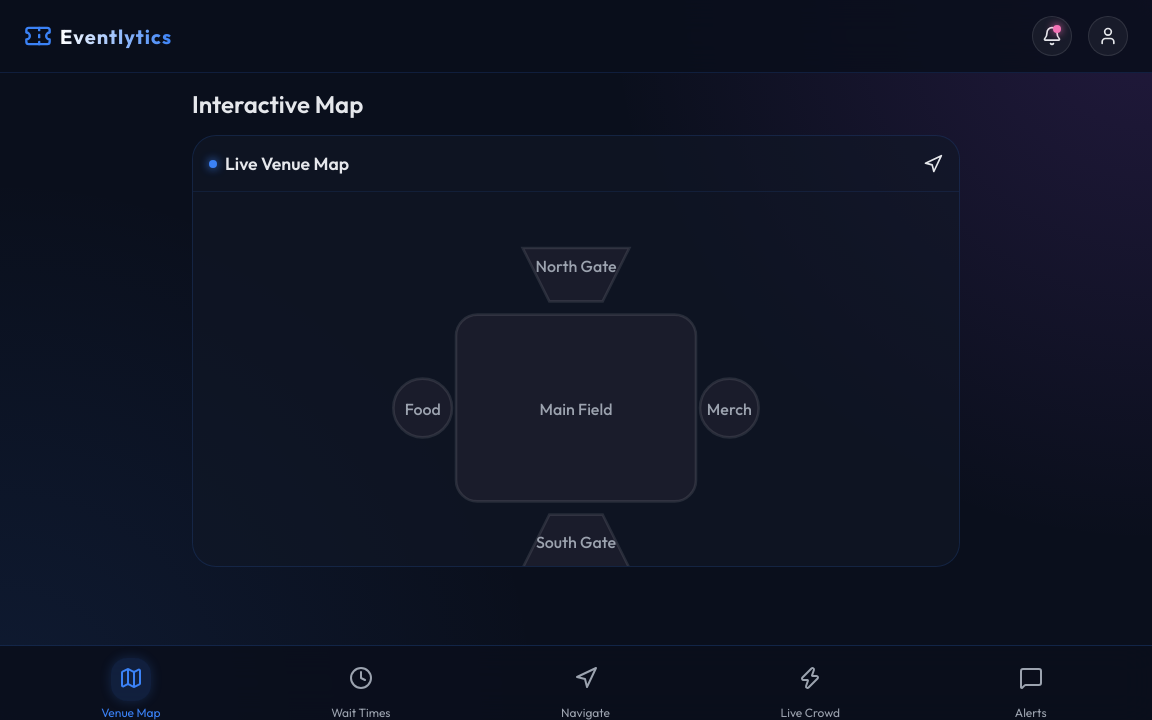
Test case: App — Integration & Edge Cases › Login toggles between Sign In and Sign Up mode
Click the button named "Login". click: (1108,36)
box: [1088,16,1128,56]
(page scrolled)
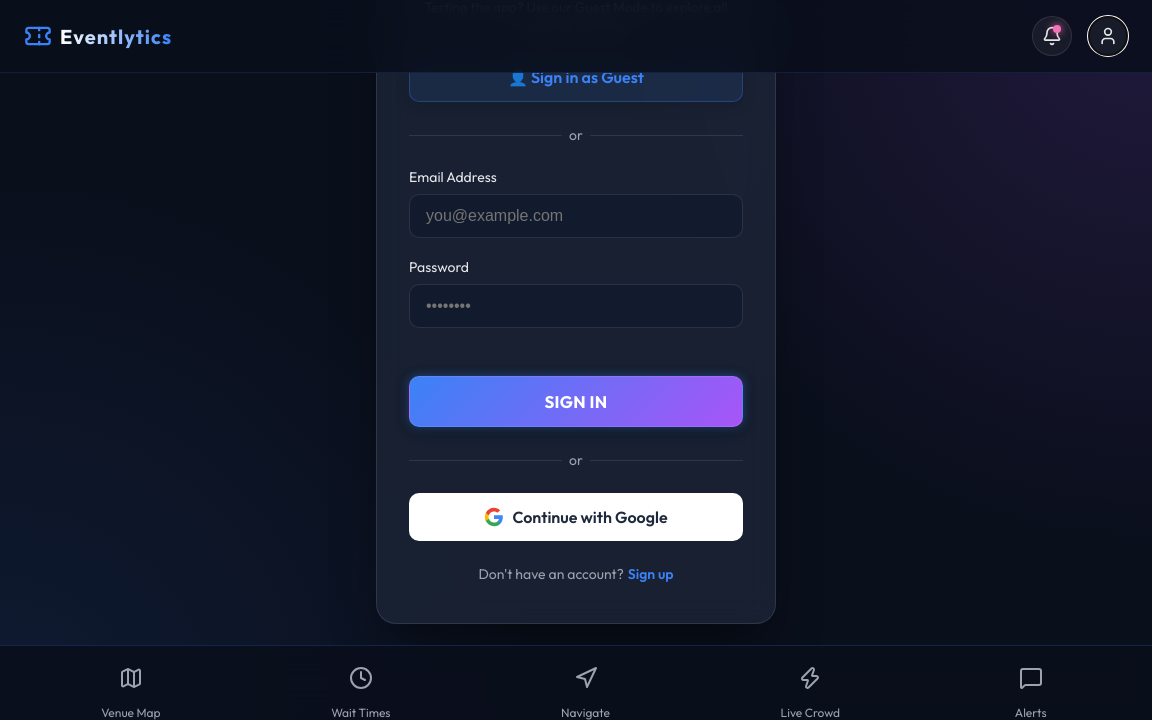
Click the button "Sign up". click: (651,574)
box: [628,565,674,583]
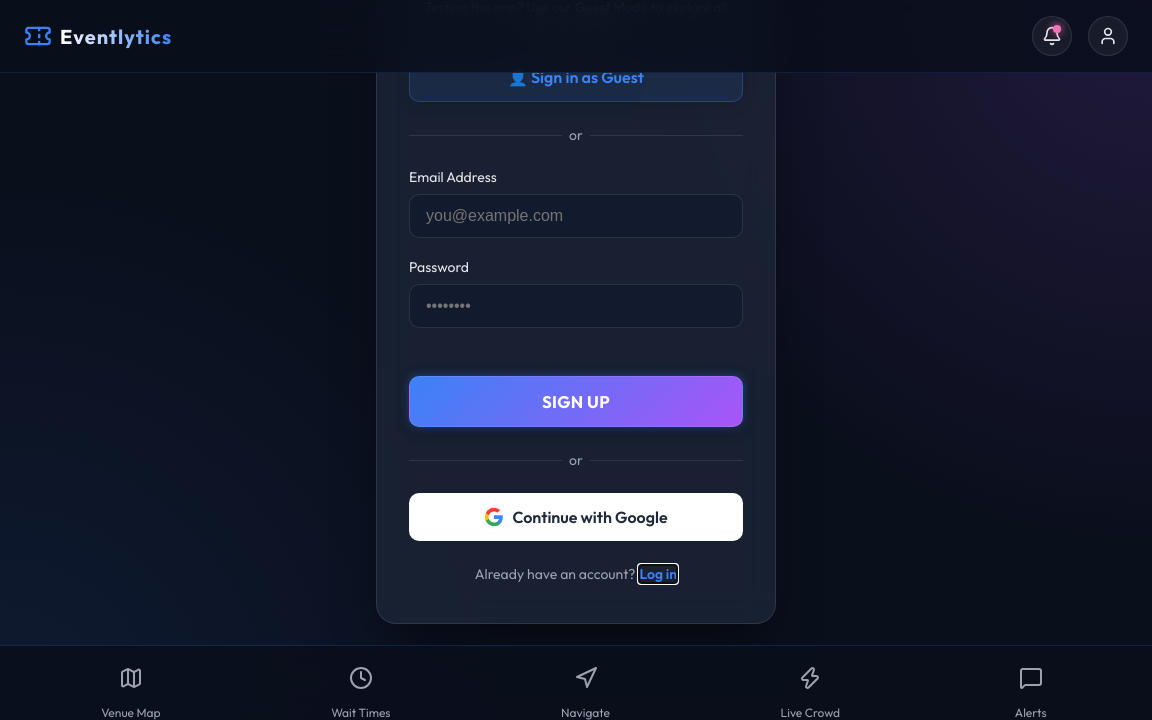
Click the button "Log in". click: (658,574)
box: [639,565,677,583]
(page scrolled)
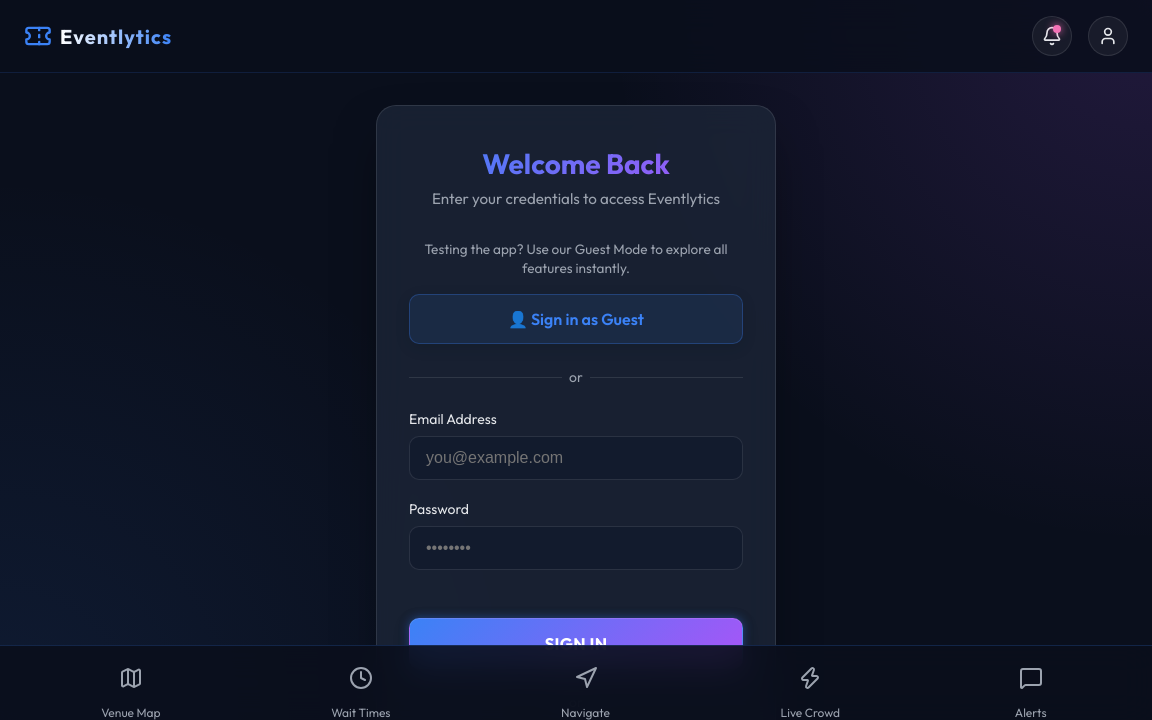
Check: the heading "Welcome Back" is shown, box [409,146,743,181]
